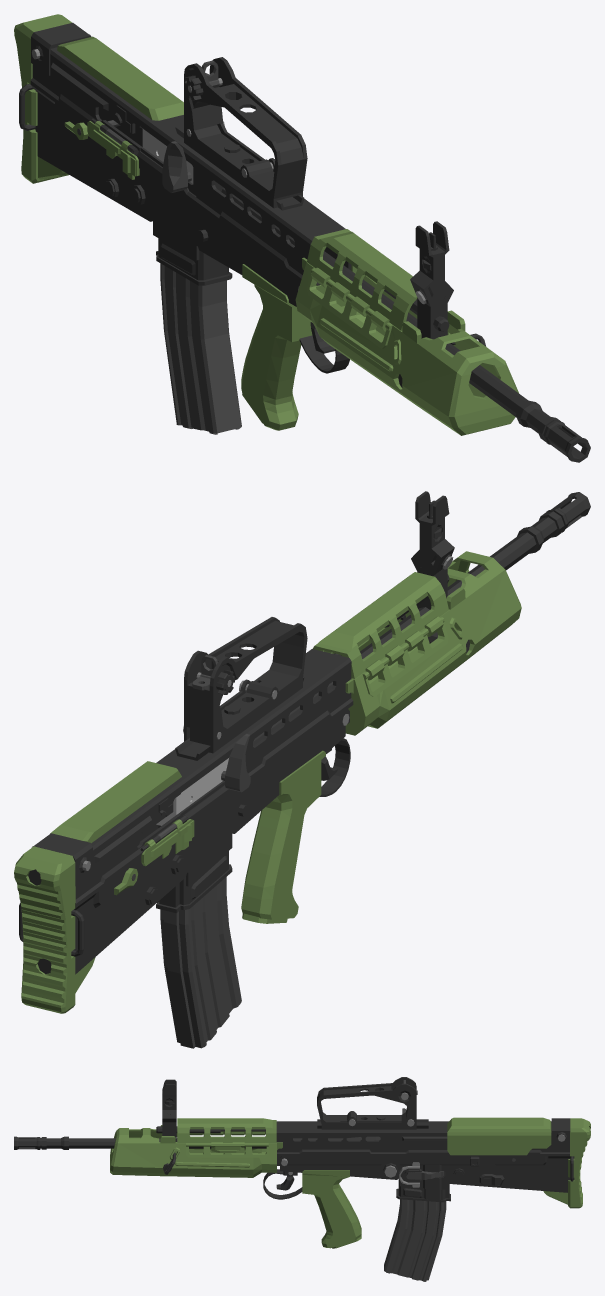
3 views of the same model, one above another, from view 1: azimuth 30°, elevation 25°; view 2: azimuth 150°, elevation 25°; view 3: azimuth 270°, elevation 25° (orthographic). The views are drawn at different scales.
Parts seen in each view (by area): view 1: Object_2, Object_5, Object_7, Iron_Sight_Carry_Handle; view 2: Object_5, Object_2, Iron_Sight_Carry_Handle, Object_7, Object_8; view 3: Object_2, Object_5, Object_7, Iron_Sight_Carry_Handle, Object_6.
Boxes of the visible parts, x1,y1,x2,y2 form: Object_2: (19, 22, 590, 462); Object_5: (14, 14, 518, 435); Object_7: (77, 120, 241, 434); Iron_Sight_Carry_Handle: (164, 57, 307, 210); Object_5: (14, 551, 521, 1013); Object_2: (19, 491, 590, 974); Iron_Sight_Carry_Handle: (175, 617, 307, 760); Object_7: (131, 755, 250, 1048); Object_8: (156, 758, 228, 825); Object_2: (14, 1079, 574, 1202); Object_5: (110, 1117, 590, 1248); Object_7: (384, 1158, 515, 1281); Iron_Sight_Carry_Handle: (317, 1077, 428, 1129); Object_6: (281, 1134, 565, 1187).
Bounding box in the file's own units: 0.0921 × 0.3509 × 0.9263.
